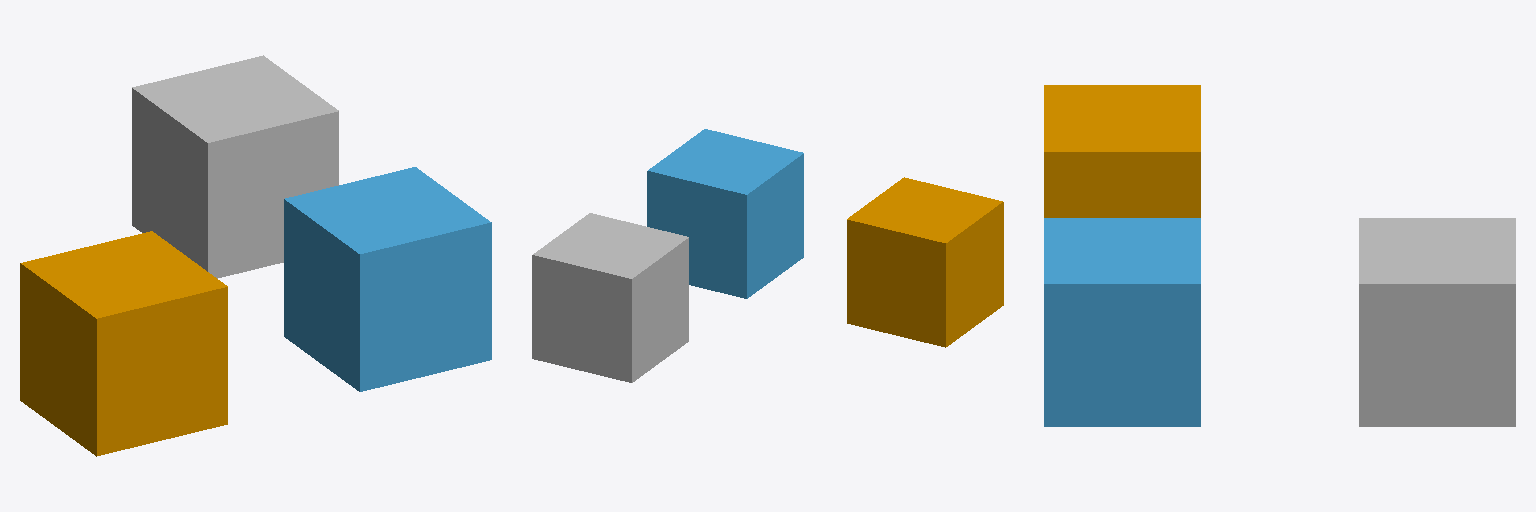
The robot description file, URDF, robot "test_displayname":
<?xml version="1.0"?>
<!-- Using characters other than alphanumeric characters and '_' -->
<robot name="test_displayname">
  <link name="link-box">
    <visual>
      <geometry>
        <box size="0.5 0.5 0.5"/>
      </geometry>
    </visual>
  </link>
  <link name="link-box2">
    <visual>
      <geometry>
        <box size="0.5 0.5 0.5"/>
      </geometry>
    </visual>
  </link>
  <link name="link-mesh_dae">
    <visual>
      <geometry>
        <!-- The node name is "Cube:1". -->
        <mesh filename="assets/name_test.dae" scale="0.5 0.5 0.5"/>
      </geometry>
    </visual>
  </link>

  <joint name="joint:root" type="fixed">
    <origin rpy="0 0 0" xyz="1 0 0"/>
    <parent link="link-box"/>
    <child link="link-box2"/>
  </joint>
  <joint name="mesh_dae" type="fixed">
    <origin rpy="0 0 0" xyz="0 1 0"/>
    <parent link="link-box2"/>
    <child link="link-mesh_dae"/>
  </joint>

</robot>

--- What the picture shows (computed from the rendered views, not written in the file) ---
The picture shows the robot from 3 angles, left to right: view 1: azimuth 30°, elevation 25°; view 2: azimuth 150°, elevation 25°; view 3: azimuth 270°, elevation 25°; orthographic projection.
Model test_displayname with 3 links and 2 joints (2 fixed), rooted at link-box, posed every joint at zero.
Links seen in each view (by area): view 1: link-box, link-box2, link-mesh_dae; view 2: link-box, link-mesh_dae, link-box2; view 3: link-box2, link-mesh_dae, link-box.
Link boxes in pixels (x1,y1,x2,y2): link-box: (20,231,227,456); link-box2: (284,167,491,391); link-mesh_dae: (132,55,338,278); link-box: (847,177,1003,347); link-mesh_dae: (532,213,688,382); link-box2: (647,129,803,298); link-box2: (1044,218,1200,426); link-mesh_dae: (1359,218,1515,426); link-box: (1044,85,1200,217).
Size in the robot's own frame: 1.5 by 1.5 by 0.5 metres.
1 mesh visuals loaded from 1 distinct referenced files (1 Collada DAE).
